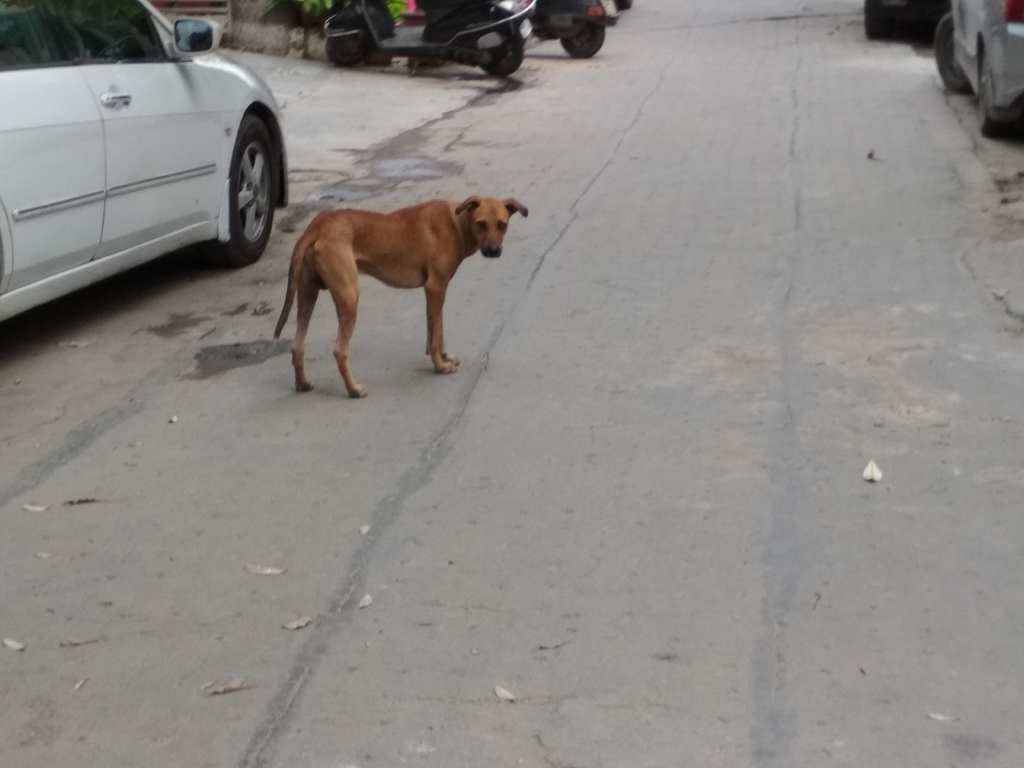dog: (275, 196, 529, 398)
